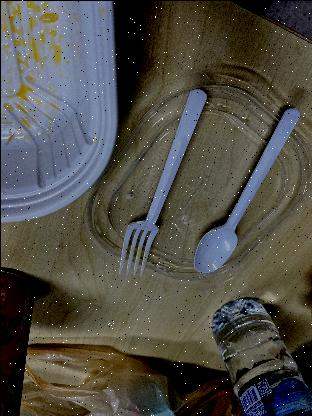Others: (188, 107, 304, 278), (112, 88, 216, 278)
